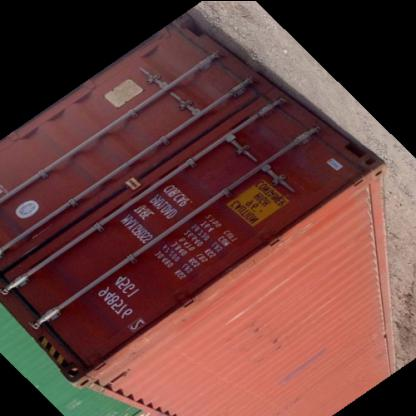Damage: (80, 312, 174, 376)
